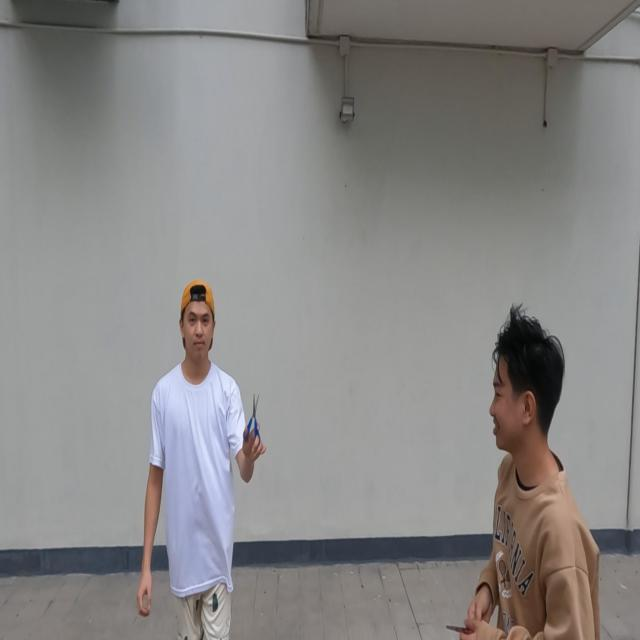scissor: (242, 392, 260, 446)
